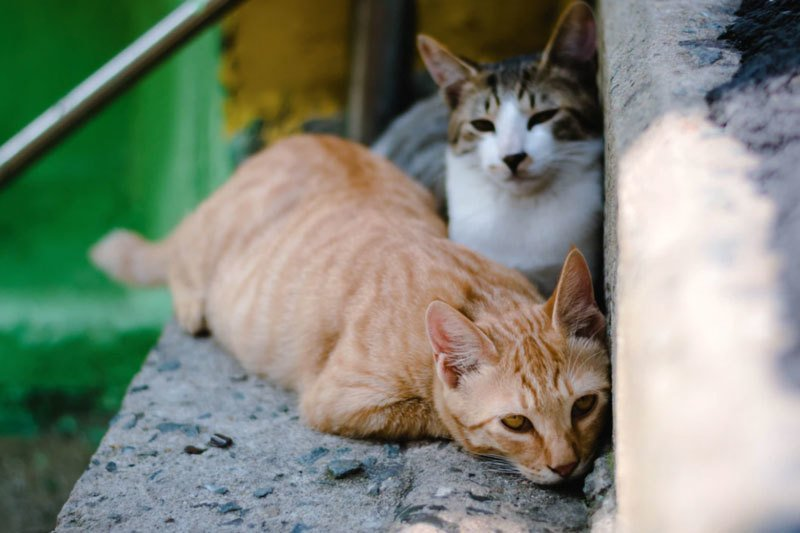Cat: (178, 134, 610, 487), (432, 4, 603, 211)
